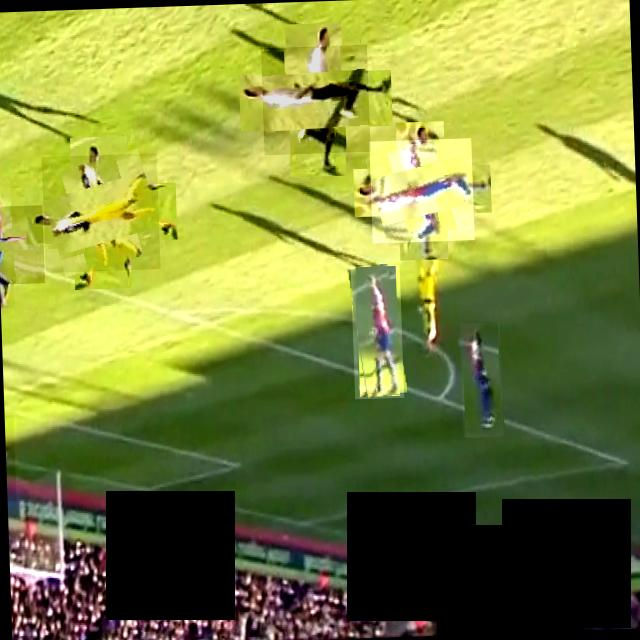goalkeeper: (3, 414, 15, 500)
referee: (260, 43, 370, 154)
soccer-player: (40, 152, 159, 272), (368, 137, 473, 242), (349, 263, 403, 398), (458, 321, 502, 436), (0, 203, 43, 283)
